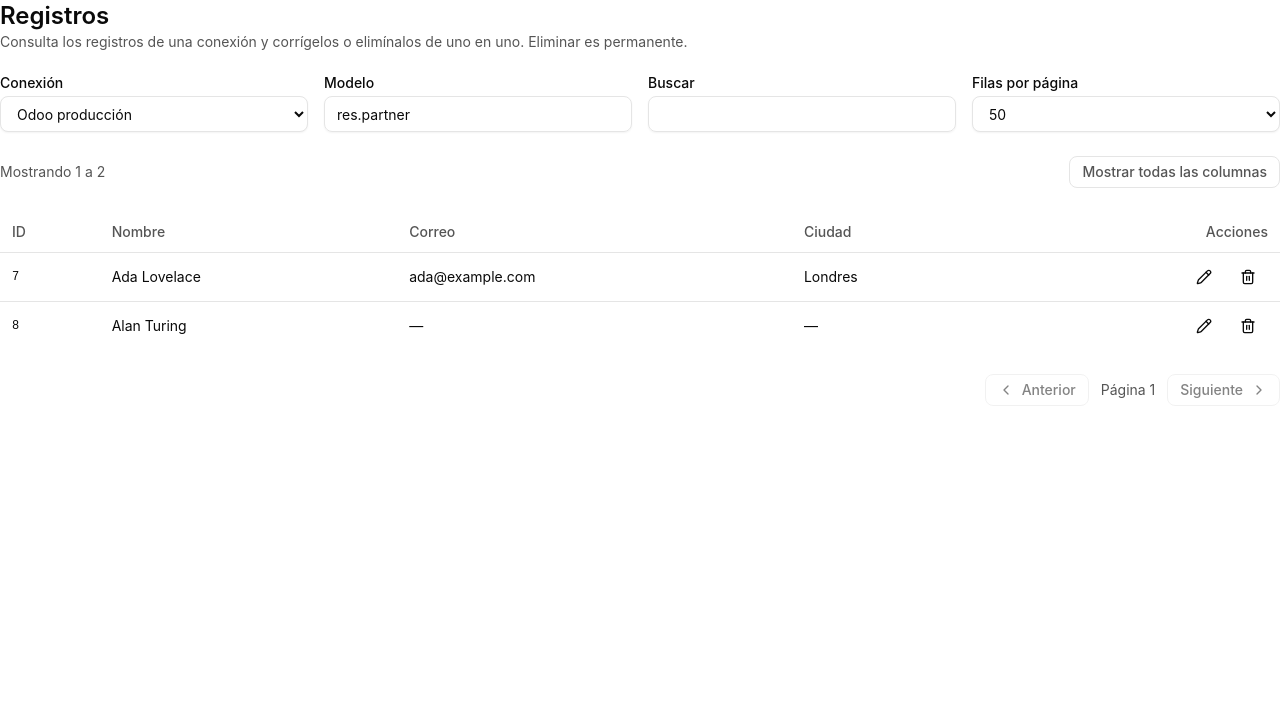
Test: RecordsPage edit › shows only writable fields and sends only the changed ones
Step 1. Click the button named "Editar Ada Lovelace" → (1204, 276), box [1184,260,1224,292]
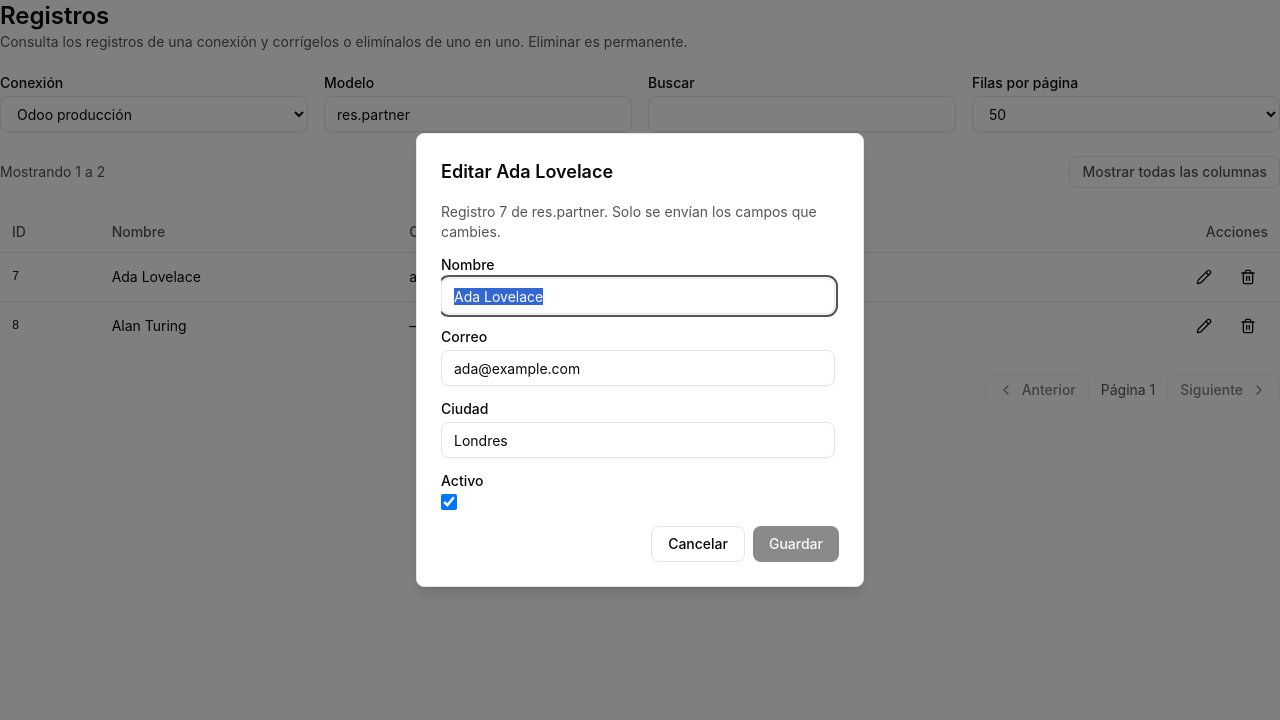
Check: the field labelled "Nombre" holds "Ada Lovelace", box [441,278,835,314]
Check: the button "Guardar" is disabled, box [753,526,839,562]
Step 2. Replace the text in the field labelled "Ciudad" with "París" → (638, 440), box [441,422,835,458]
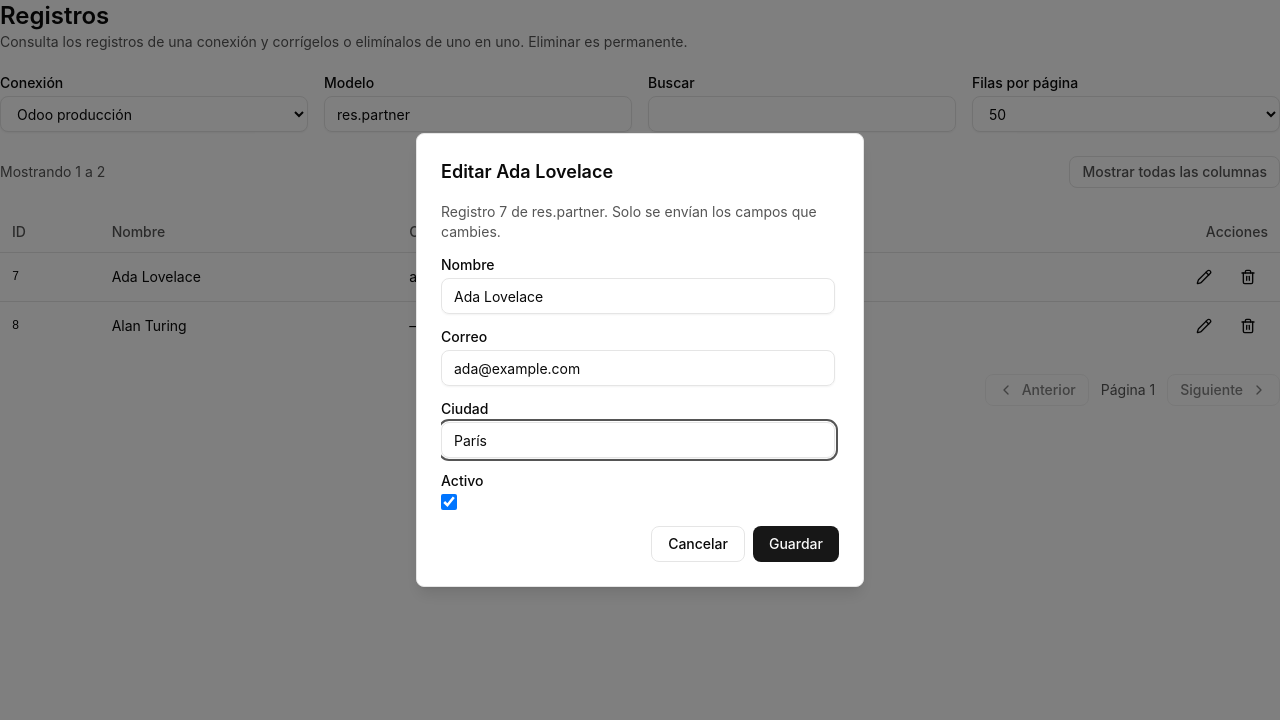
Step 3. Click the button "Guardar" → (796, 544), box [753,526,839,562]
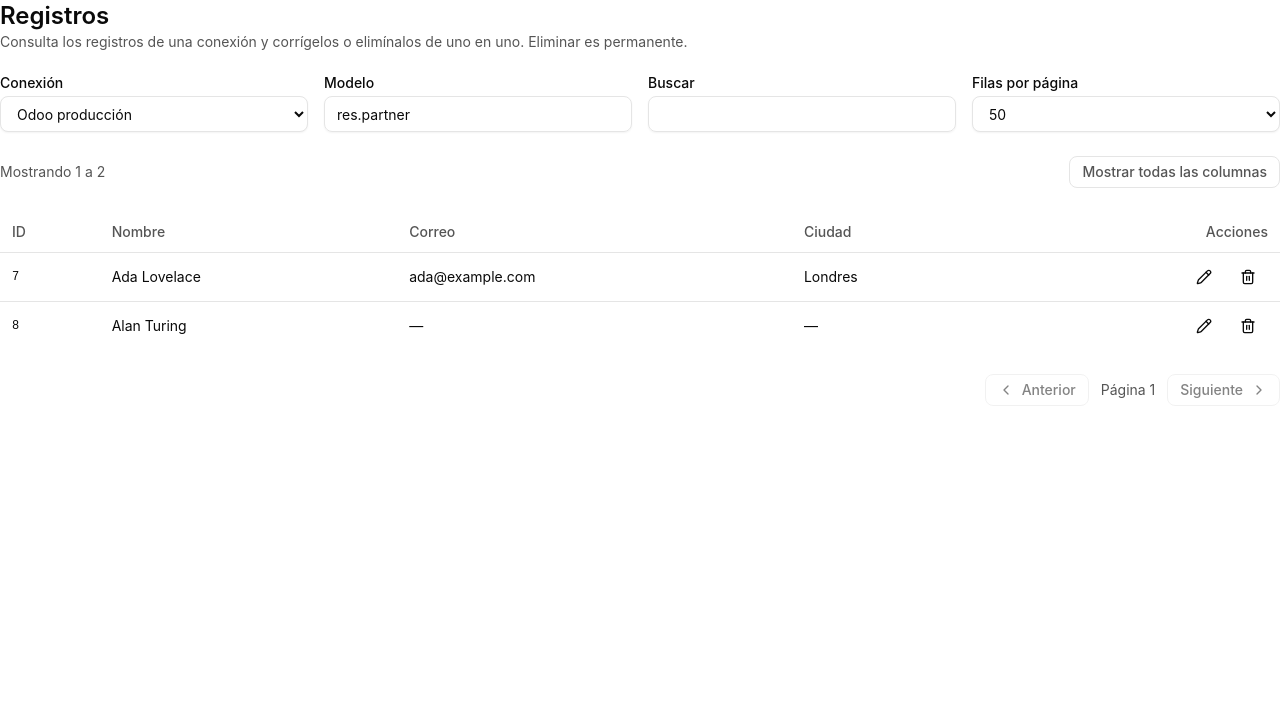
Check: the dialog is gone
